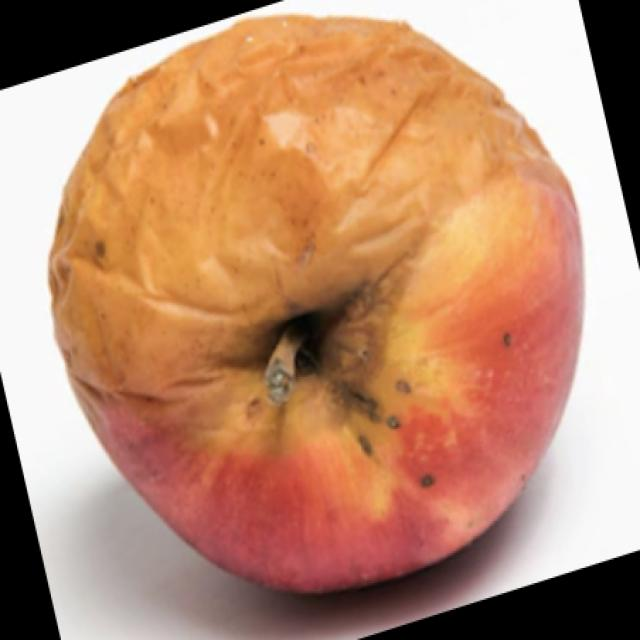organik: (86, 0, 578, 568)
